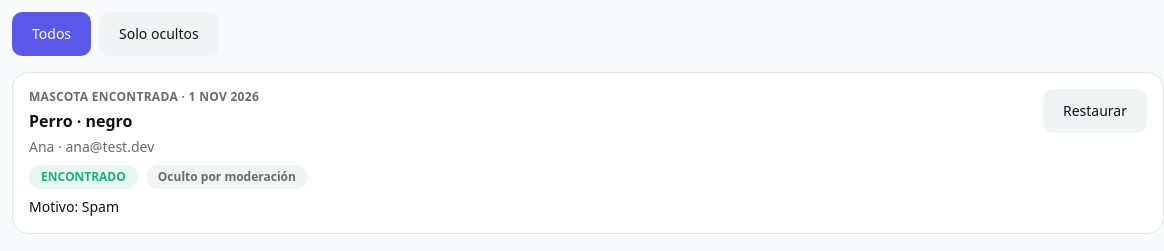
Scenario: AdminReportes (HU18) › AC2: en "Solo ocultos", restaurar lo quita de la lista
Click the button "Solo ocultos" at (159, 34), box [99,12,219,56]
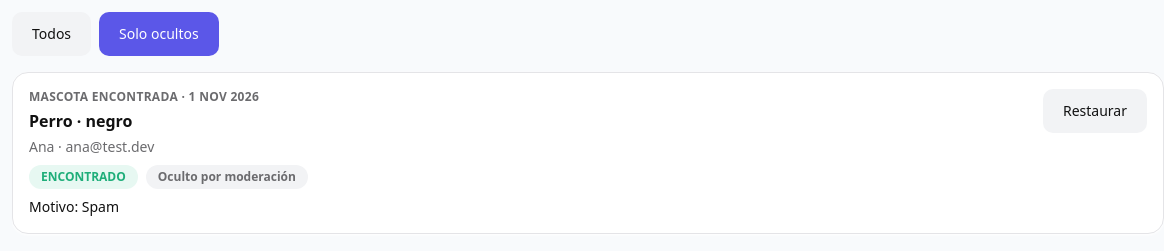
Click the button "Restaurar" at (1095, 111), box [1043,89,1147,133]
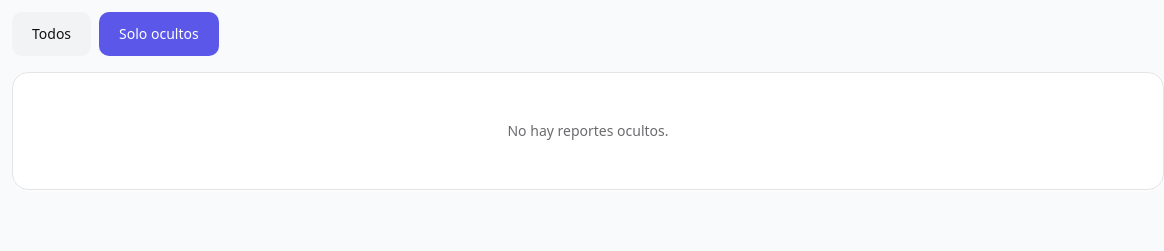
Result: the text "No hay reportes ocultos." is shown at [12,72,1163,190]
